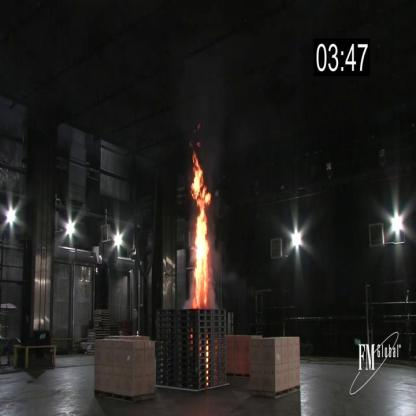fire: (188, 146, 213, 312)
